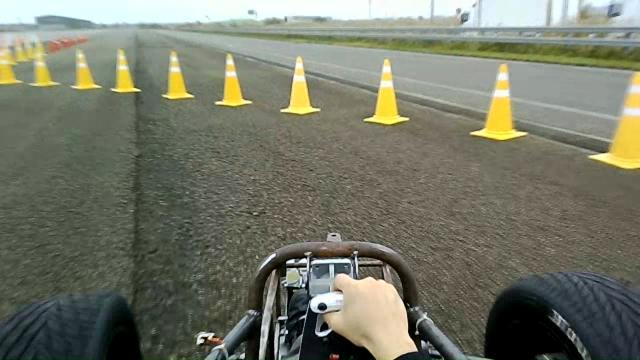yellow cone: (588, 70, 639, 170), (469, 62, 528, 140), (363, 57, 410, 125), (279, 55, 321, 115), (613, 70, 639, 158), (214, 52, 252, 106)
